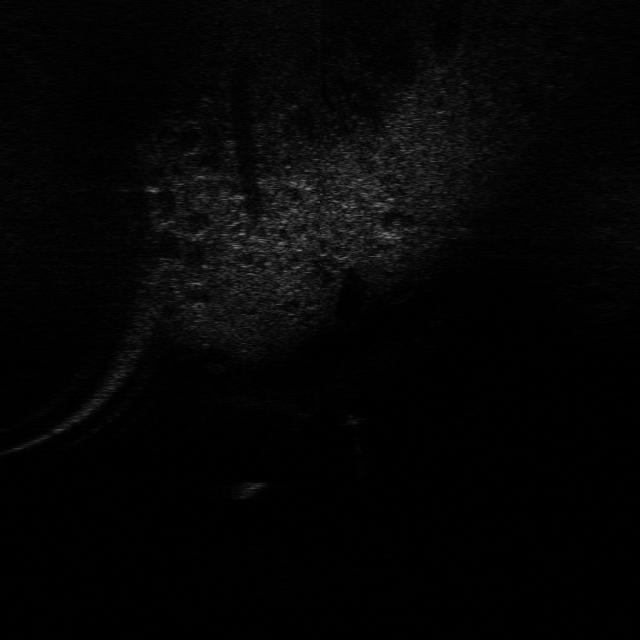cube: (332, 402, 372, 430)
cylinder: (220, 474, 270, 504)
